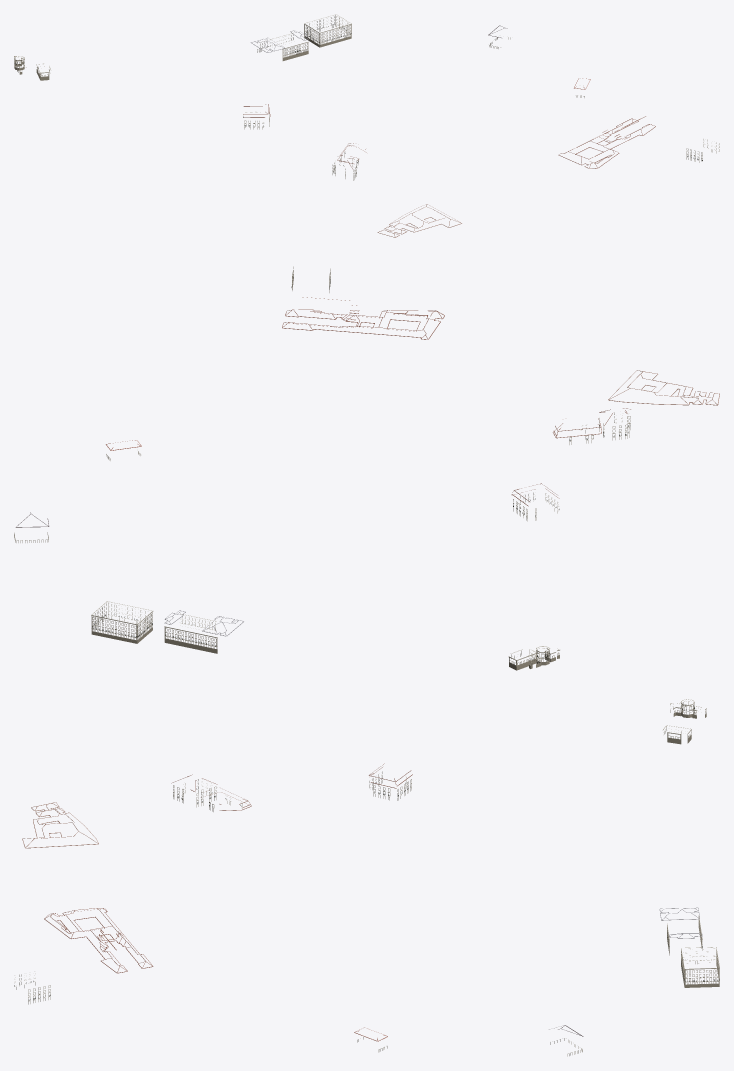
3 views of the same model, one above another, from view 1: azimuth 30°, elevation 25°; view 2: azimuth 150°, elevation 25°; view 3: azimuth 270°, elevation 25° (orthographic). The views are drawn at different scales.
Visible parts, largest first — view 1: detail; view 2: detail; view 3: detail.
Boxes of the visible parts, x1=… form: detail: x1=14, y1=14, x2=719, y2=237; detail: x1=14, y1=266, x2=719, y2=670; detail: x1=14, y1=699, x2=719, y2=1056.
Bounding box in the file's own units: 493 × 69.84 × 511.
